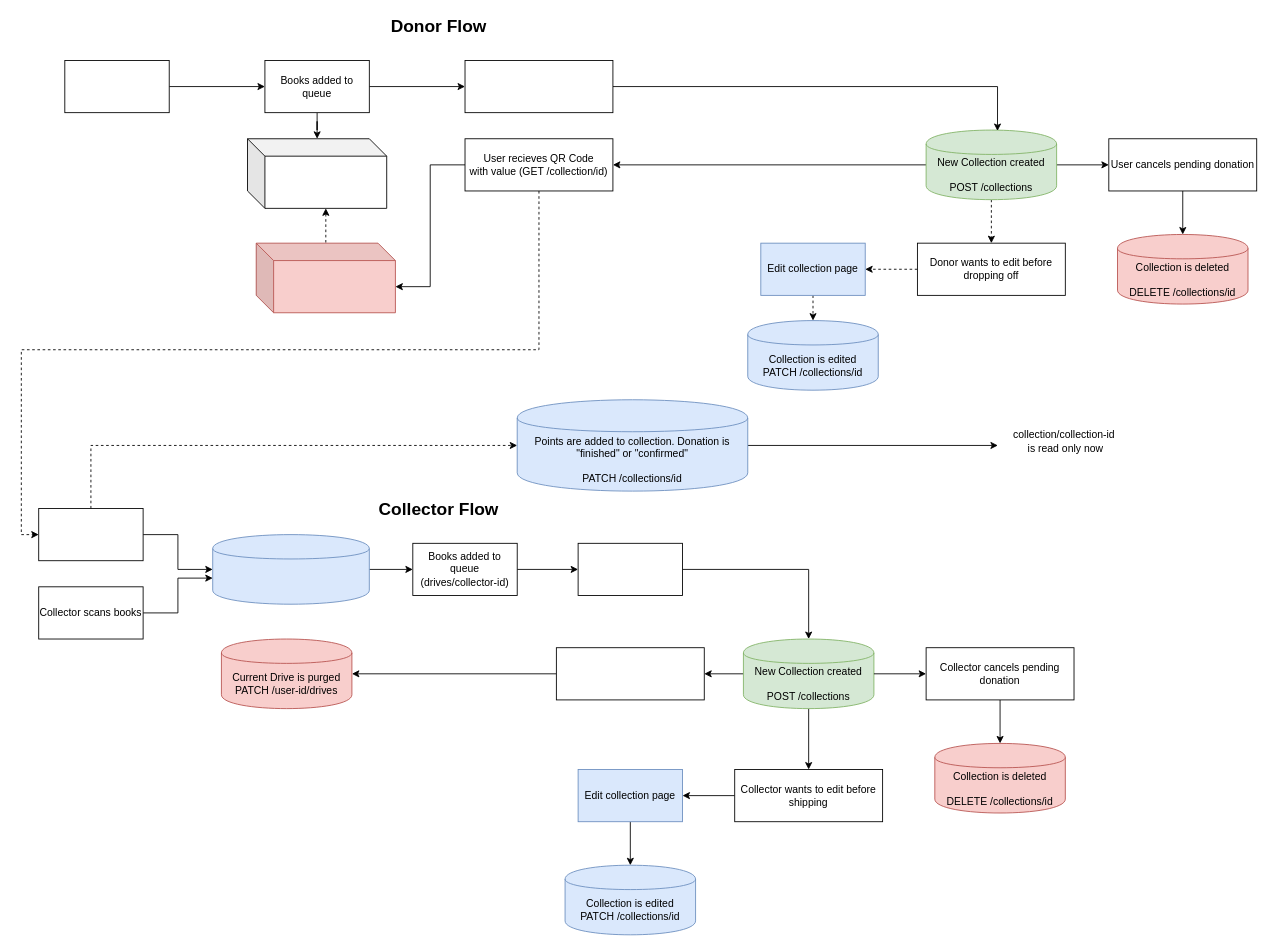
This 1272x950 diagram has some shape labels left out. Here are the shapes that lost their labels. From the top down, the centre of each, then its label:
point 116,86: User scans books
point 538,86: User confirms donation
point 317,173: Saved state to local storage/browser
point 325,277: Local storage is cleared
point 90,534: Collector scans QR Code
point 290,569: Collector's book drive is modified PATCH /user-id/drives
point 630,569: Collector confirms book drive for shipping
point 629,673: Collector recieves QR Code with value (GET /collection/id)
